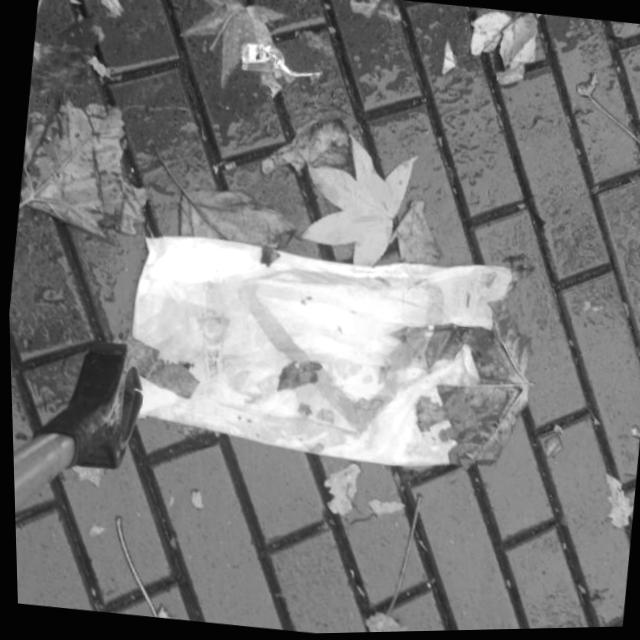Paper: (102, 218, 519, 485)
